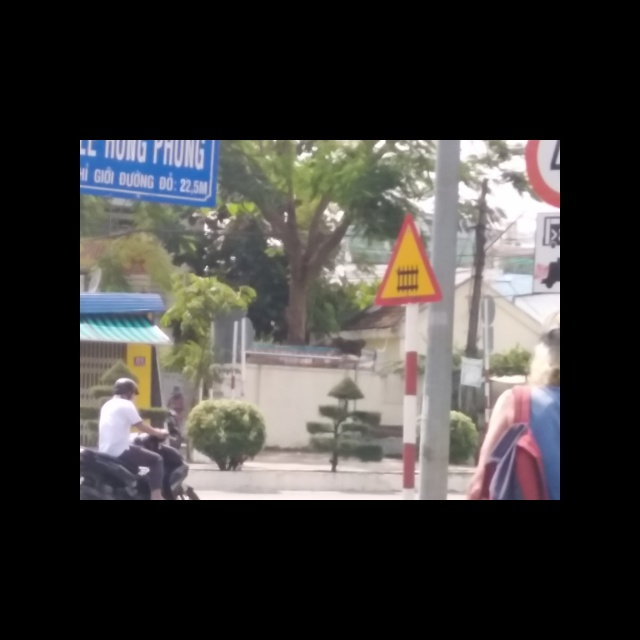Giao nhau với đường sắt có rào chắn: (373, 210, 444, 304)
